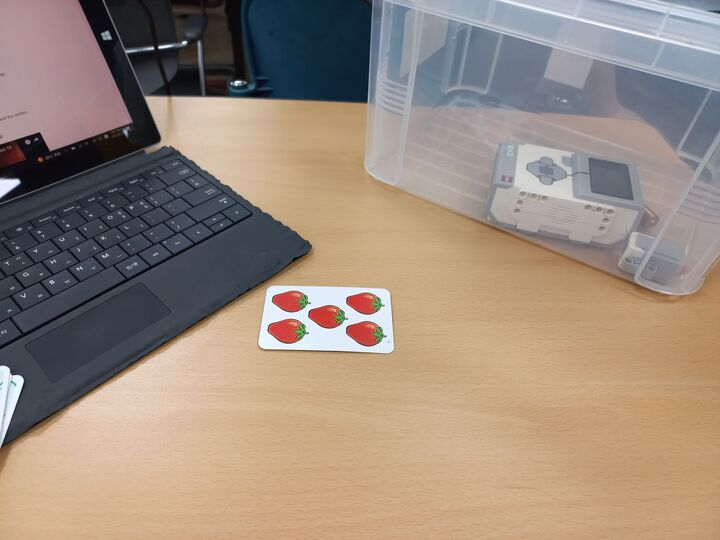strawberry5: (258, 283, 396, 356)
